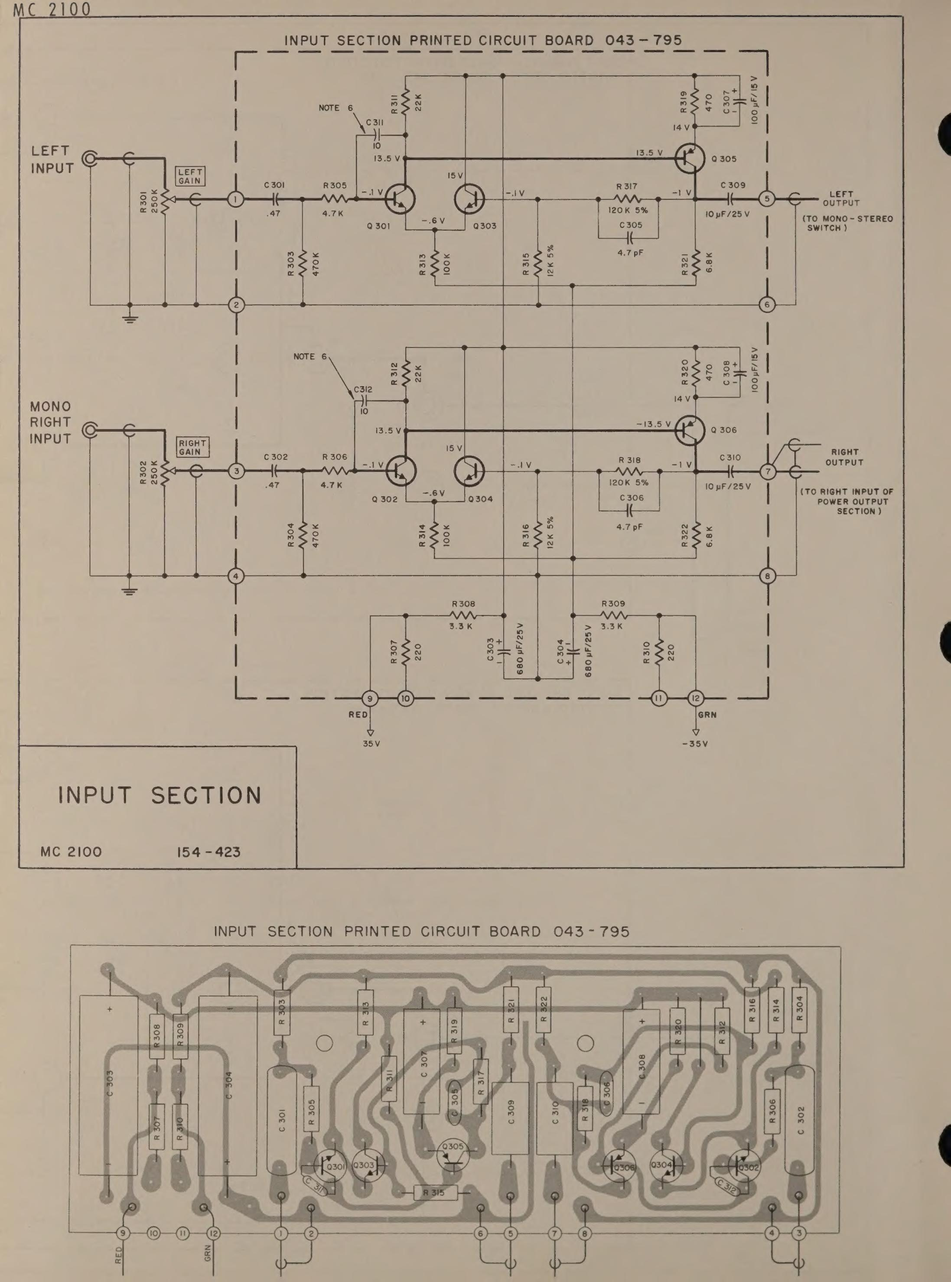C301: (262, 179, 288, 191), (277, 1108, 288, 1134)
C302: (797, 1103, 808, 1139), (263, 452, 291, 462)
C303: (104, 1067, 116, 1099), (486, 636, 495, 663)
C304: (223, 1068, 235, 1102), (555, 638, 565, 665)
C305: (449, 1087, 461, 1117), (619, 220, 644, 229)
C306: (601, 1079, 611, 1107), (619, 493, 645, 503)
C307: (419, 1048, 428, 1079), (721, 88, 731, 115)
C308: (636, 1052, 647, 1082), (722, 359, 731, 386)
C309: (506, 1098, 517, 1125), (719, 180, 747, 189)
C310: (550, 1098, 561, 1127), (719, 451, 742, 462)
C311: (304, 1176, 325, 1195), (363, 117, 386, 128)
C312: (715, 1177, 738, 1196), (353, 385, 375, 395)
Q301: (366, 219, 392, 232), (326, 1161, 346, 1173)
Q302: (371, 494, 398, 506), (736, 1161, 760, 1174)
Q303: (473, 220, 498, 231), (351, 1161, 376, 1170)
Q304: (466, 494, 496, 504), (649, 1159, 673, 1171)
Q305: (710, 154, 738, 165), (439, 1141, 466, 1152)
Q306: (709, 424, 741, 435), (613, 1162, 636, 1173)
R301: (137, 191, 149, 215)
R302: (137, 459, 148, 487)
R303: (285, 249, 296, 279), (277, 998, 287, 1026)
R304: (794, 994, 804, 1022), (286, 521, 295, 548)
R305: (322, 180, 349, 191), (306, 1098, 317, 1125)
R306: (766, 1097, 777, 1124), (322, 453, 348, 461)
R307: (151, 1113, 162, 1143), (388, 637, 399, 665)
R308: (450, 599, 477, 610), (152, 1022, 162, 1050)
R309: (174, 1020, 187, 1048), (599, 599, 625, 609)
R310: (641, 639, 651, 665), (175, 1116, 185, 1142)
R311: (389, 92, 400, 115), (385, 1068, 394, 1096)
R312: (717, 1018, 727, 1046), (389, 361, 398, 386)
R313: (417, 253, 427, 278), (362, 1000, 371, 1027)
R314: (770, 997, 782, 1026), (417, 523, 427, 549)
R315: (421, 1188, 447, 1198), (520, 251, 530, 276)
R316: (747, 996, 758, 1026), (519, 522, 531, 547)
R317: (476, 1068, 486, 1097), (615, 181, 638, 191)
R318: (617, 454, 642, 466), (578, 1097, 589, 1123)
R319: (677, 89, 690, 116), (448, 1017, 459, 1045)
R320: (673, 1016, 683, 1046), (679, 359, 690, 386)
R321: (506, 997, 516, 1025), (680, 253, 690, 277)
R322: (538, 995, 550, 1022), (679, 522, 689, 550)
